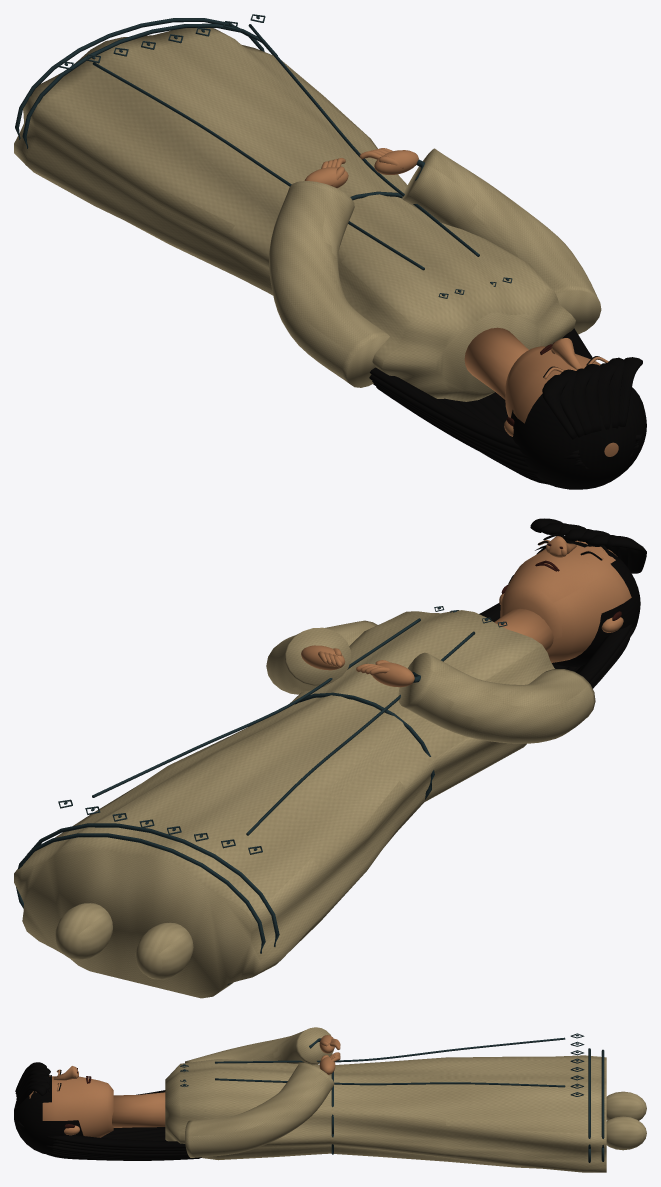
The model's file is mono_sleep_lod0.glb.
3 views of the same model, one above another, from view 1: azimuth 30°, elevation 25°; view 2: azimuth 150°, elevation 25°; view 3: azimuth 270°, elevation 25° (orthographic). The views are drawn at different scales.
Visible parts, largest first — view 1: Mono_Sleep_Detailed.001; view 2: Mono_Sleep_Detailed.001; view 3: Mono_Sleep_Detailed.001.
Boxes of the visible parts, bbox=[...] form: Mono_Sleep_Detailed.001: bbox=[14, 14, 646, 489]; Mono_Sleep_Detailed.001: bbox=[14, 518, 646, 998]; Mono_Sleep_Detailed.001: bbox=[14, 1027, 646, 1172].
Bounding box in the file's own units: 0.6157 × 0.3575 × 1.92.
Materials: 1 (1 with a texture image).
